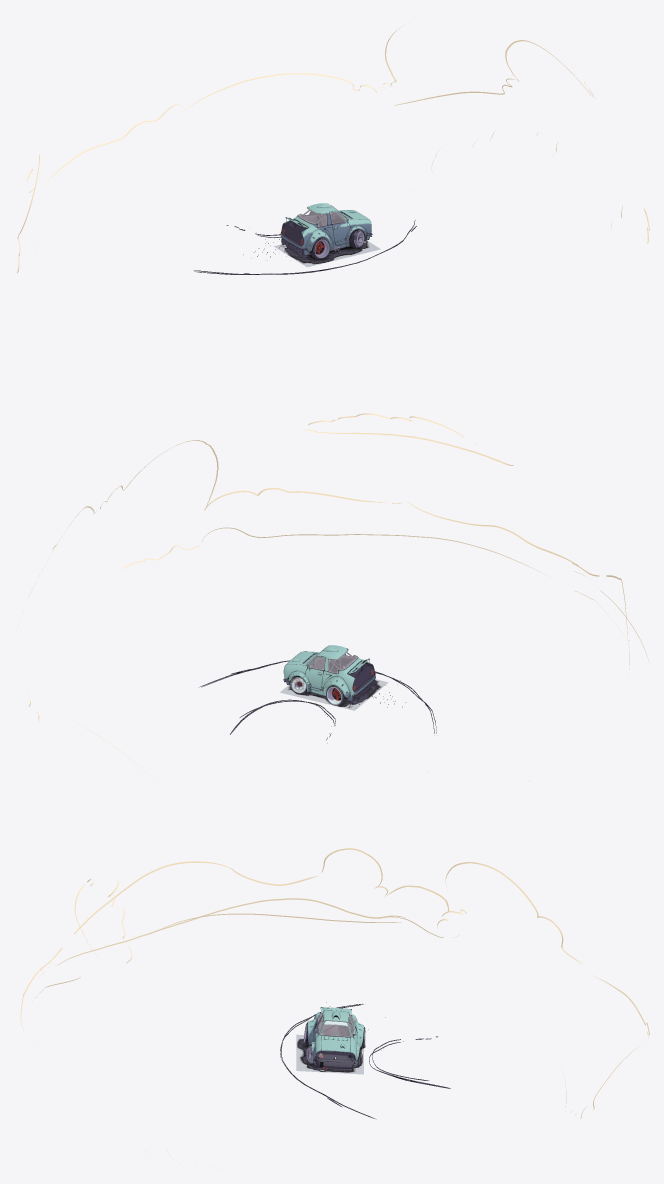
File: che.glb
3 renders of one model, top to bottom at view 1: azimuth 30°, elevation 25°; view 2: azimuth 150°, elevation 25°; view 3: azimuth 270°, elevation 25°, orthographic.
Parts seen in each view (by area): view 1: Cube.001, GP_Layer_CUGP_Layer, Plane.004, Cube.004, Cube.005, Plane; view 2: GP_Layer_CUGP_Layer, Cube.001, Plane.004, Plane, Cube.004; view 3: GP_Layer_CUGP_Layer, Cube.001, Plane, Plane.004, Cube.004.
Boxes of the visible parts, x1,y1,x2,y2 form: Cube.001: (280,203,372,254); GP_Layer_CUGP_Layer: (17,24,649,272); Plane.004: (274,240,380,267); Cube.004: (280,219,371,257); Cube.005: (310,229,364,259); Plane: (194,220,416,274); GP_Layer_CUGP_Layer: (28,413,649,781); Cube.001: (283,645,375,700); Plane.004: (280,679,388,710); Plane: (199,660,436,743); Cube.004: (284,661,375,703); GP_Layer_CUGP_Layer: (20,848,649,1164); Cube.001: (307,1007,363,1069); Plane: (280,1002,450,1119); Plane.004: (296,1034,363,1074); Cube.004: (315,1051,355,1069).
Size of the model in its own units: 58.35 by 20.49 by 59.64.
7 materials, 5 textured.
